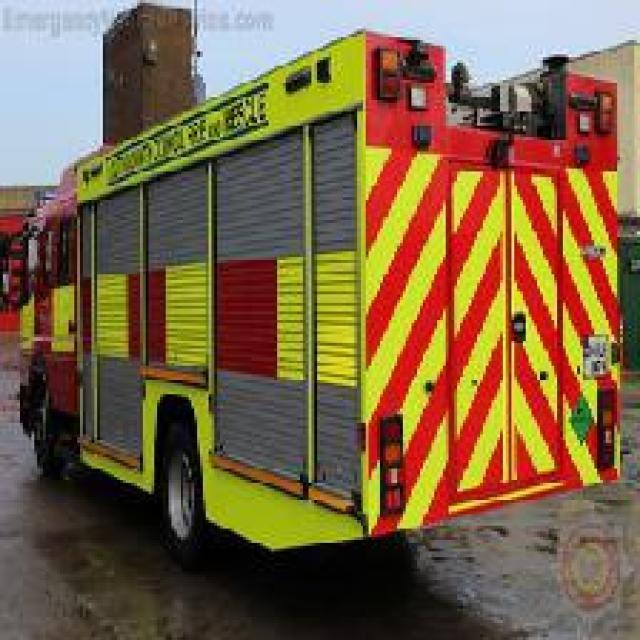emergency: (0, 22, 628, 571)
